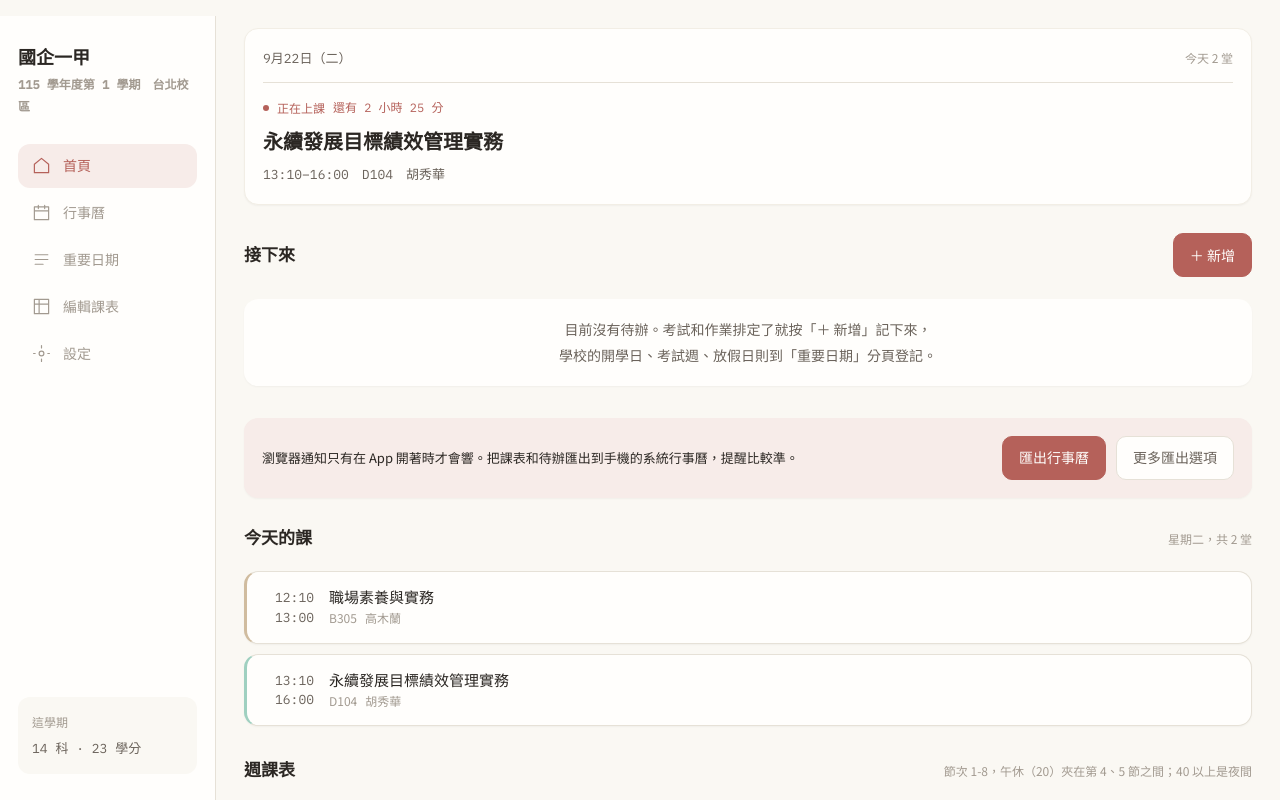
Scenario: 新增學校重要日期 › 標題空白會被擋下
Click the button "重要日期": (108,260) left=18, top=238, right=197, bottom=282
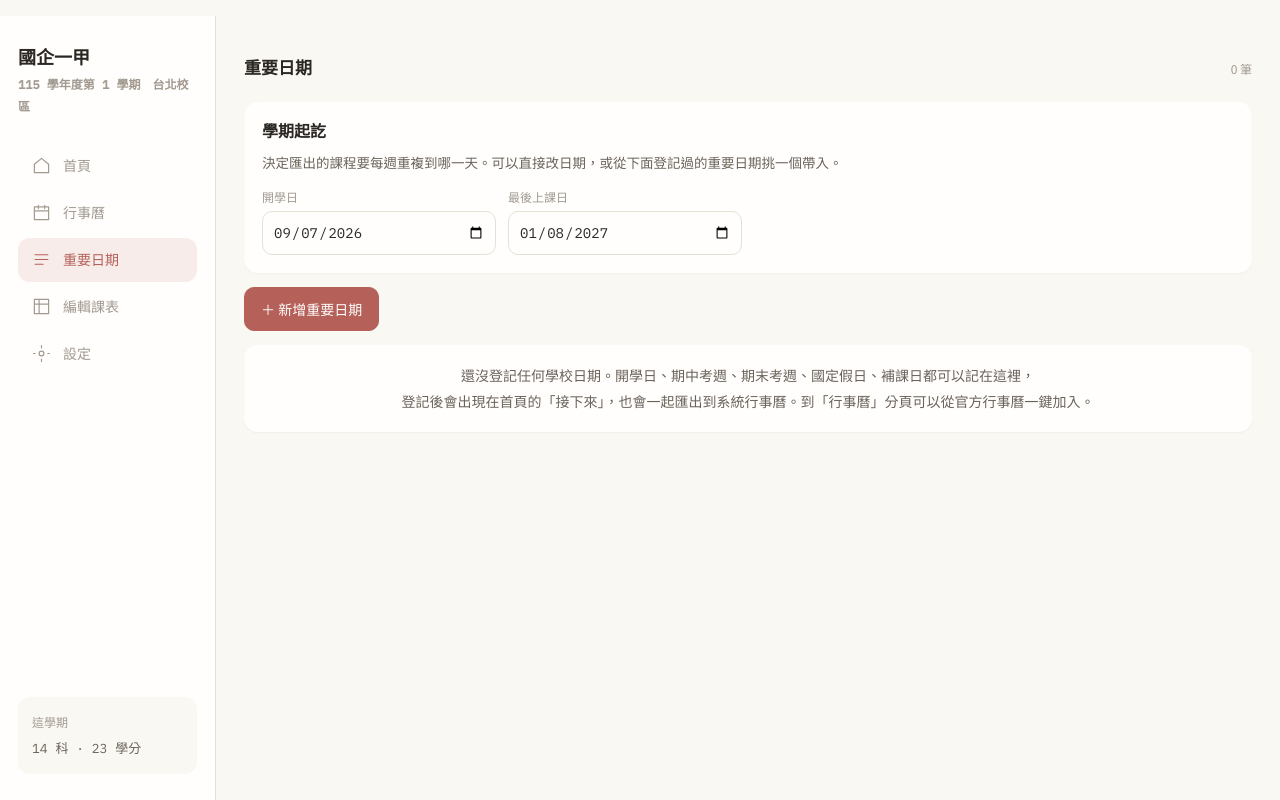
Click the button "＋ 新增重要日期": (312,309) left=244, top=287, right=379, bottom=331
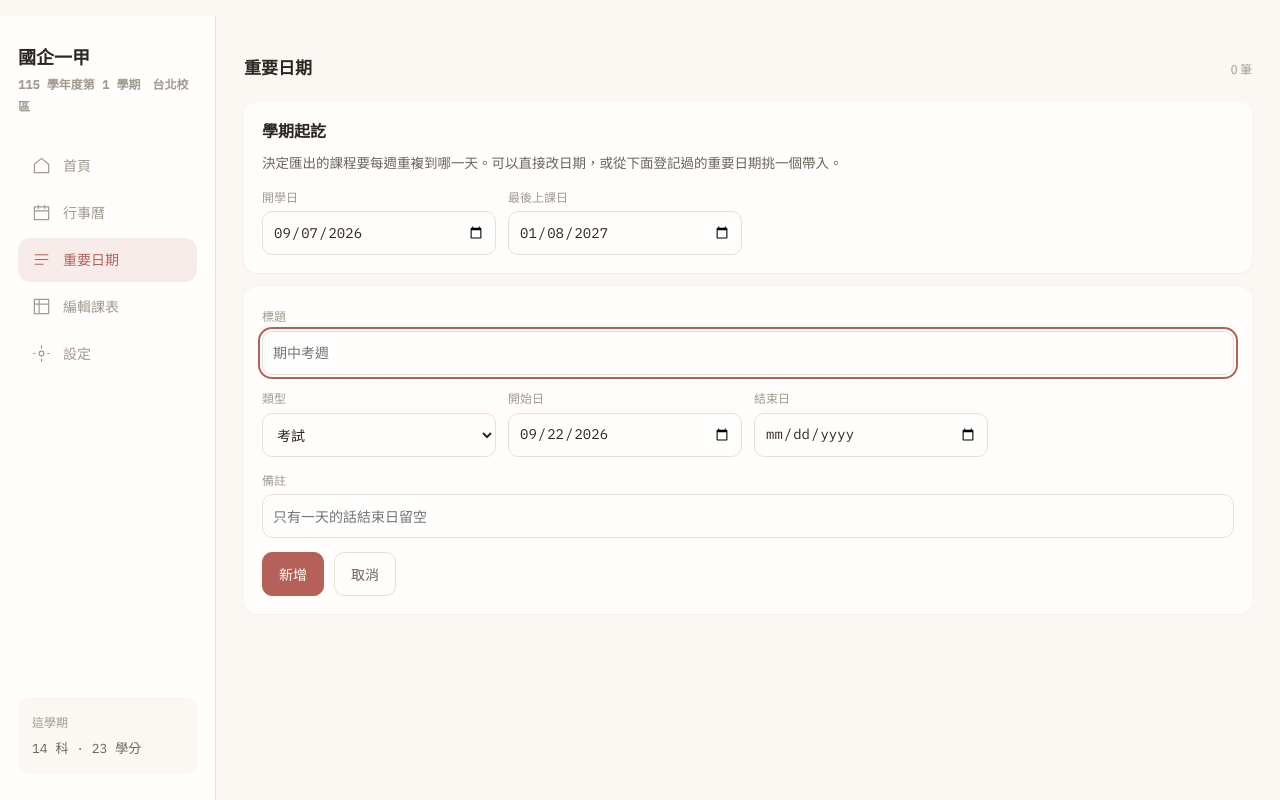
Click the button "新增": (293,574) left=262, top=552, right=324, bottom=596
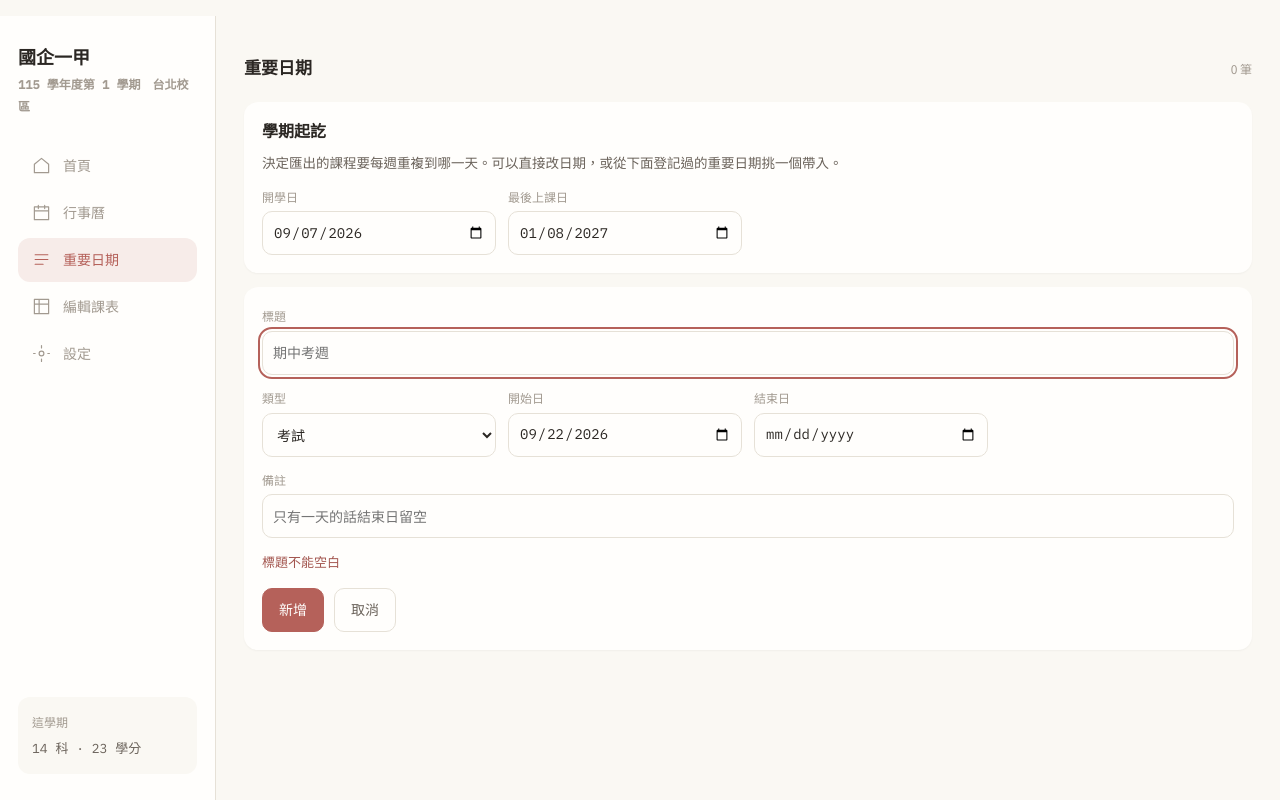
Now the message reads "標題不能空白", box left=262, top=552, right=340, bottom=571
